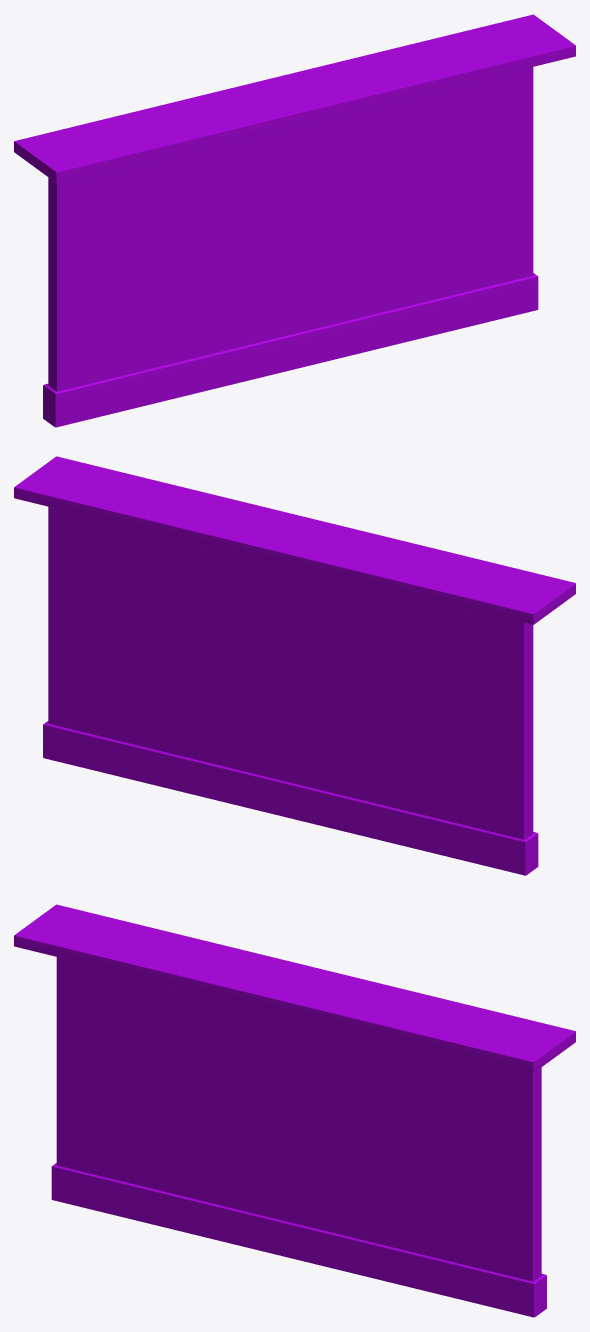
File: partition_light.fbx
3 renders of one model, top to bottom at view 1: azimuth 30°, elevation 25°; view 2: azimuth 150°, elevation 25°; view 3: azimuth 330°, elevation 25°, orthographic.
Visible parts, largest first — view 1: partition_light; view 2: partition_light; view 3: partition_light.
Part boxes in pixels (x1,y1,x2,y2): partition_light: (14,14,575,427); partition_light: (14,456,575,875); partition_light: (14,904,575,1317).
Bounding box in the file's own units: 483 × 243 × 68.39.
